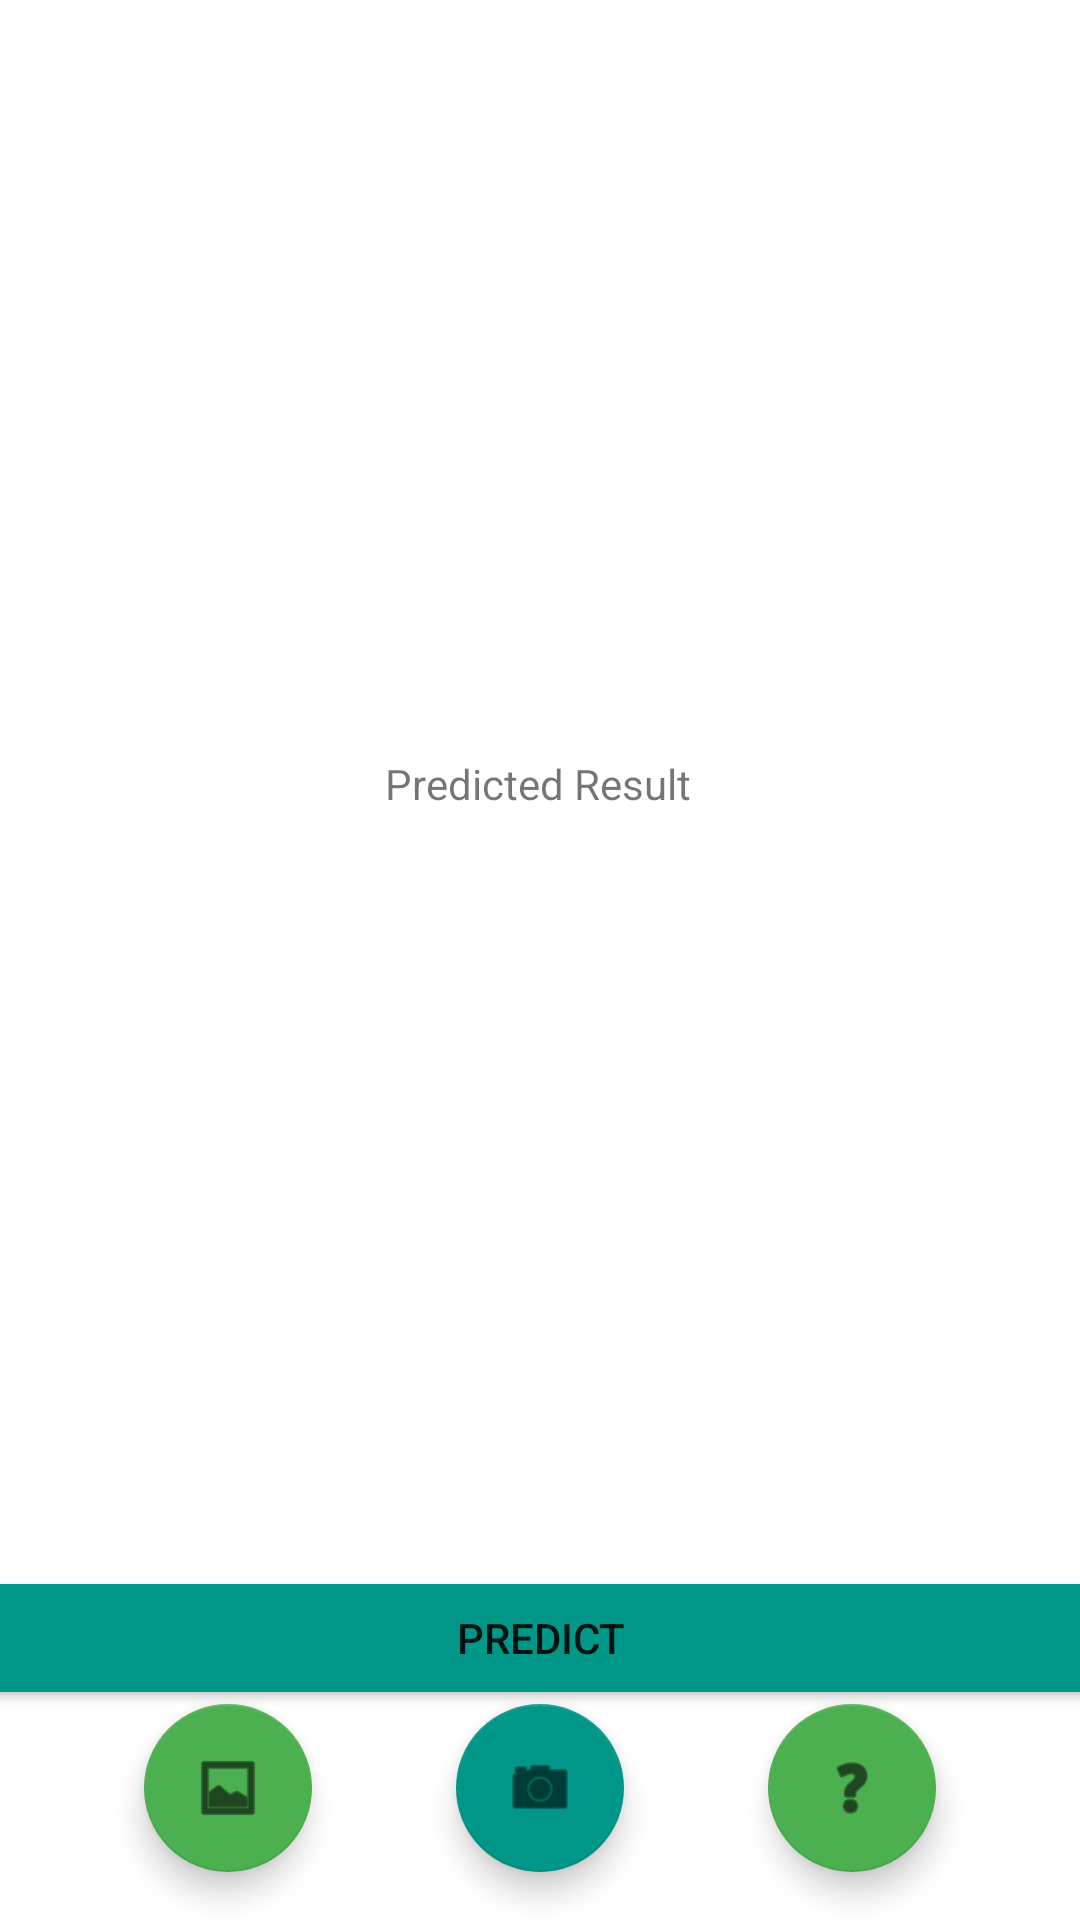

Icons on this 1080px x 1920px Android screen, each with its box as (x1, y1, x2, y2):
help: (768, 1704, 936, 1872)
